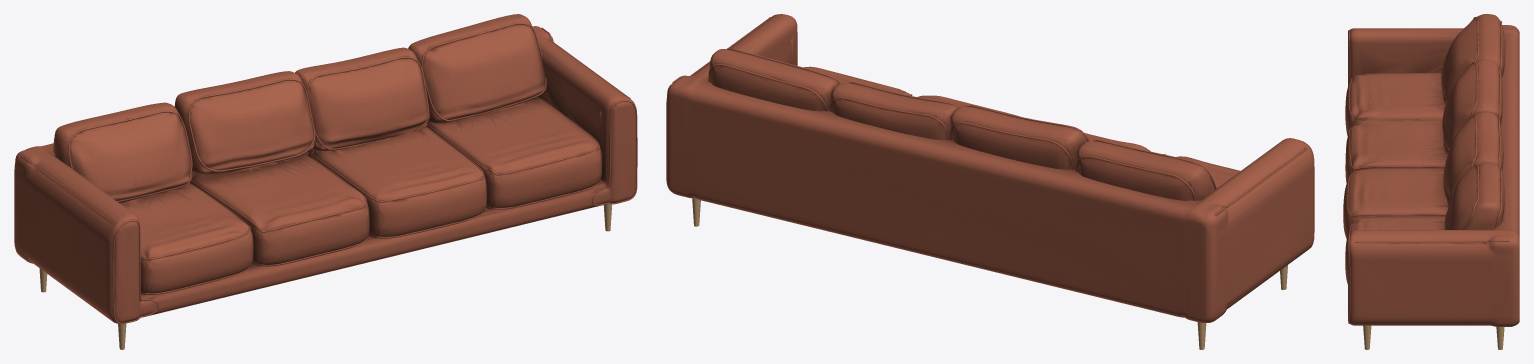
File: pana-oxido.gltf
3 views of the same model, side by side, from view 1: azimuth 30°, elevation 25°; view 2: azimuth 150°, elevation 25°; view 3: azimuth 270°, elevation 25° (orthographic). The views are drawn at different scales.
Parts seen in each view (by area): view 1: tela_ar, madera_ar; view 2: tela_ar, madera_ar; view 3: tela_ar, madera_ar.
Boxes of the visible parts, box(x1,y1,x2,y2) form: tela_ar: box(14, 14, 637, 323); madera_ar: box(39, 203, 612, 349); tela_ar: box(666, 14, 1314, 322); madera_ar: box(692, 198, 1287, 349); tela_ar: box(1343, 14, 1519, 326); madera_ar: box(1363, 325, 1504, 349).
Bounding box in the file's own units: 2.7 × 0.8297 × 0.9224.
2 materials, 2 textured.
